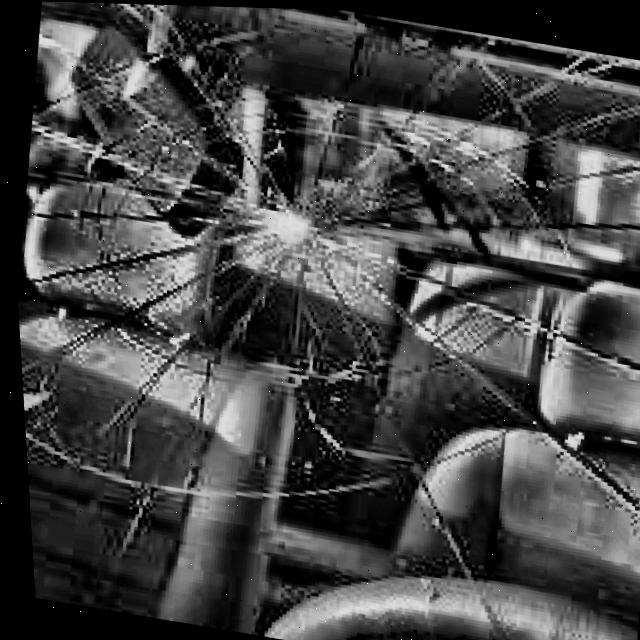glass_shatter: (181, 114, 386, 325)
